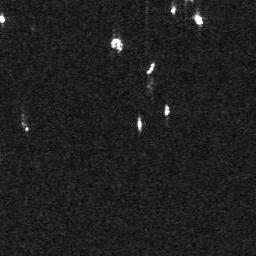ship: (144, 62, 156, 75), (136, 115, 144, 133), (163, 103, 170, 117), (1, 13, 6, 25)
